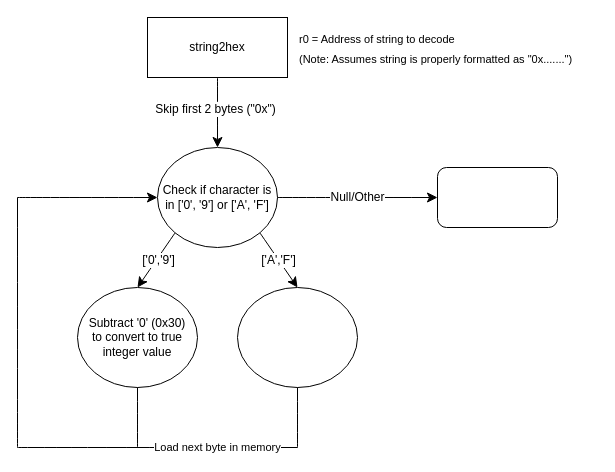
Some shapes in this 615 by 472 pixel diagram are drawn without their labels. Here are the shapes that lost their labels. From the top down, the box of each, then its label:
(436, 166, 558, 228): Return hex value in r0
(236, 286, 358, 388): Subtract 'A' (0x41) to convert to true integer value
